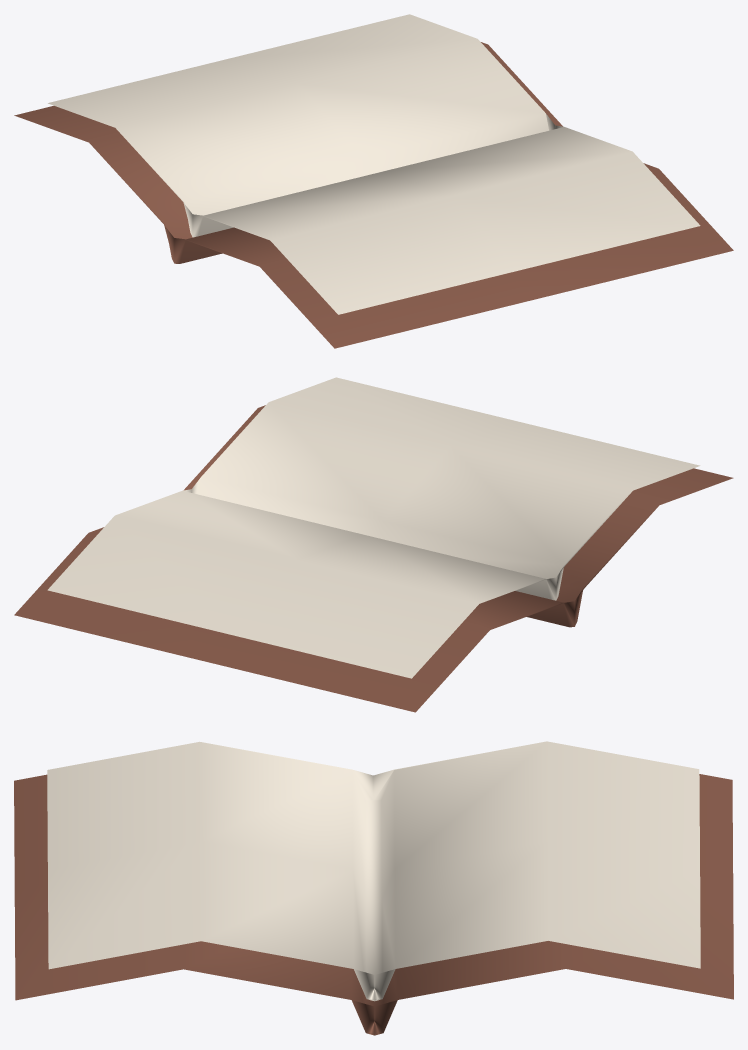
File: libroA.glb
3 renders of one model, top to bottom at view 1: azimuth 30°, elevation 25°; view 2: azimuth 150°, elevation 25°; view 3: azimuth 270°, elevation 25°, orthographic. The views are drawn at different scales.
Parts seen in each view (by area): view 1: Plane; view 2: Plane; view 3: Plane.
Boxes of the visible parts, x1=… form: Plane: x1=14, y1=14, x2=733, y2=348; Plane: x1=14, y1=377, x2=733, y2=712; Plane: x1=14, y1=741, x2=733, y2=1035.
Size of the model in its own units: 0.8384 by 0.1497 by 1.16.
